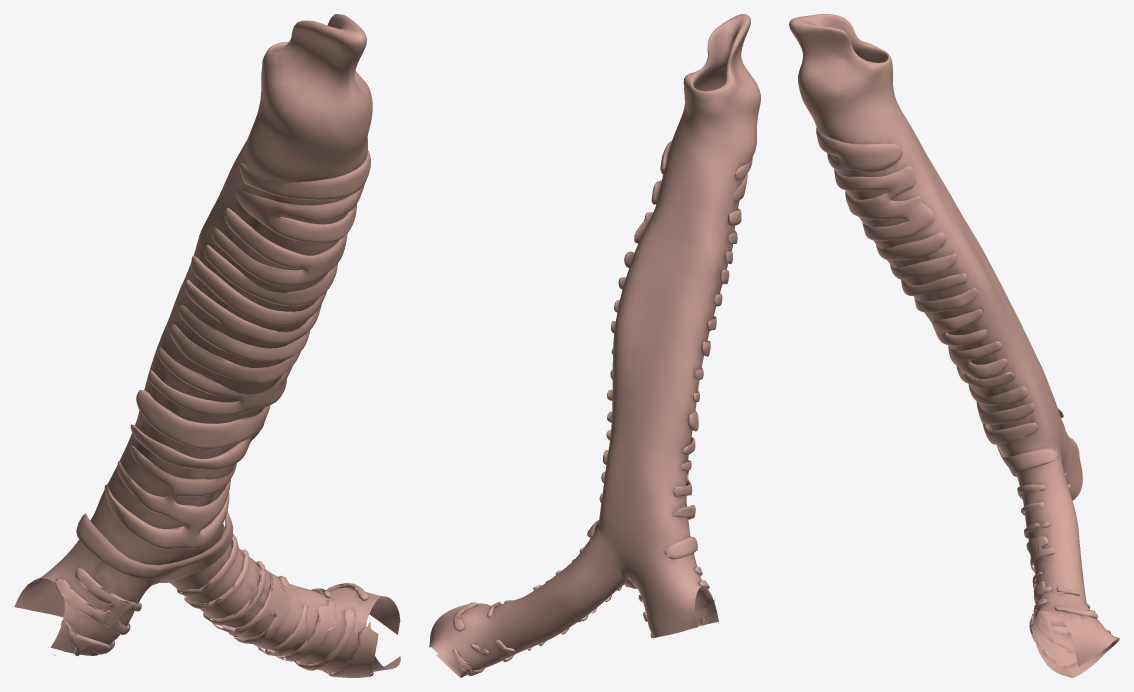
The model's file is explorar-trachea_bronchi.glb.
The picture shows the model from 3 angles, left to right: view 1: azimuth 30°, elevation 25°; view 2: azimuth 150°, elevation 25°; view 3: azimuth 270°, elevation 25°; orthographic projection. The views are drawn at different scales.
Parts seen in each view (by area): view 1: trachea_bronchi__traquea, trachea_bronchi__cartilago_traqueal, trachea_bronchi__bronquio_principal_izquierdo, trachea_bronchi__cartilago_bronquial_izquierdo, trachea_bronchi__bronquio_principal_derecho, trachea_bronchi__carina, trachea_bronchi__cartilago_bronquial_derecho; view 2: trachea_bronchi__traquea, trachea_bronchi__bronquio_principal_izquierdo, trachea_bronchi__bronquio_principal_derecho, trachea_bronchi__cartilago_traqueal, trachea_bronchi__cartilago_bronquial_izquierdo, trachea_bronchi__carina; view 3: trachea_bronchi__traquea, trachea_bronchi__cartilago_traqueal, trachea_bronchi__bronquio_principal_izquierdo, trachea_bronchi__cartilago_bronquial_izquierdo, trachea_bronchi__carina, trachea_bronchi__bronquio_principal_derecho.
Part boxes in pixels (x1,y1,x2,y2): trachea_bronchi__traquea: [90, 14, 372, 585]; trachea_bronchi__cartilago_traqueal: [104, 150, 370, 549]; trachea_bronchi__bronquio_principal_izquierdo: [170, 523, 400, 672]; trachea_bronchi__cartilago_bronquial_izquierdo: [177, 533, 378, 677]; trachea_bronchi__bronquio_principal_derecho: [14, 540, 150, 655]; trachea_bronchi__carina: [76, 511, 233, 584]; trachea_bronchi__cartilago_bronquial_derecho: [53, 568, 141, 655]; trachea_bronchi__traquea: [598, 14, 760, 584]; trachea_bronchi__bronquio_principal_izquierdo: [429, 524, 624, 677]; trachea_bronchi__bronquio_principal_derecho: [635, 550, 718, 637]; trachea_bronchi__cartilago_traqueal: [599, 141, 752, 519]; trachea_bronchi__cartilago_bronquial_izquierdo: [453, 547, 622, 675]; trachea_bronchi__carina: [587, 520, 697, 588]; trachea_bronchi__traquea: [789, 14, 1066, 463]; trachea_bronchi__cartilago_traqueal: [816, 127, 1037, 444]; trachea_bronchi__bronquio_principal_izquierdo: [1016, 448, 1119, 677]; trachea_bronchi__cartilago_bronquial_izquierdo: [1017, 484, 1110, 667]; trachea_bronchi__carina: [996, 408, 1063, 476]; trachea_bronchi__bronquio_principal_derecho: [1062, 432, 1082, 500].
Size of the model in its own units: 0.0747 by 0.1563 by 0.0801.
